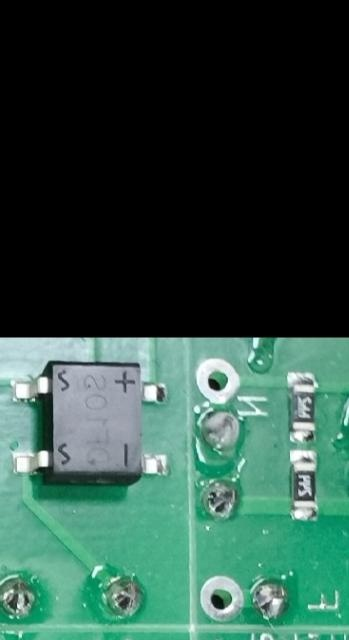chip-resistor: (283, 368, 316, 444), (285, 447, 318, 523)
ic: (5, 358, 172, 488)
